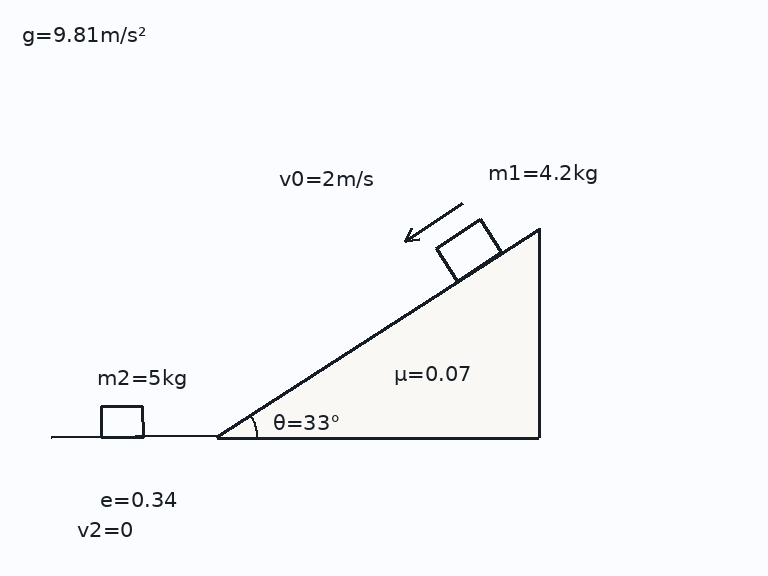block: (434, 217, 504, 283), (99, 404, 145, 439)
ramp: (215, 226, 540, 439)
